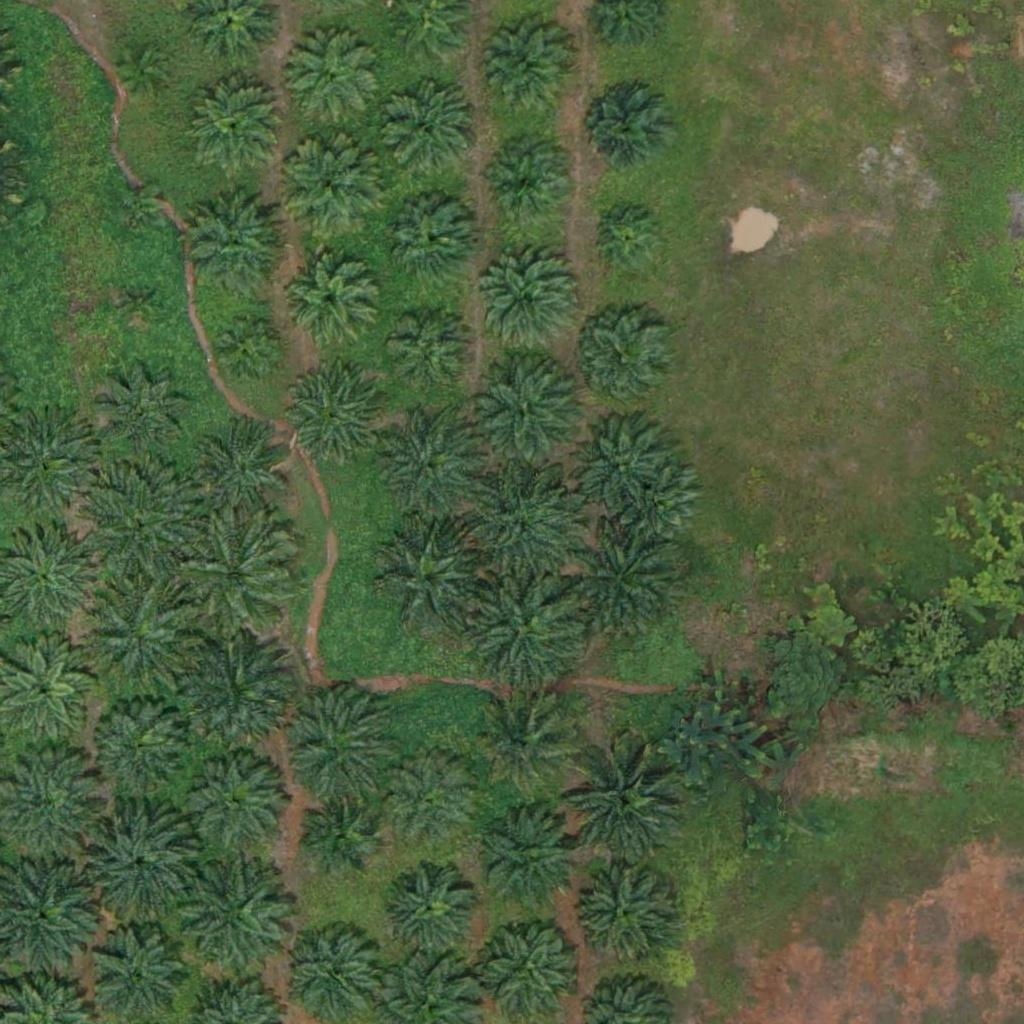Kelapa_Sawit: (176, 517, 289, 631), (280, 691, 393, 805), (472, 360, 585, 473), (465, 471, 578, 584), (567, 533, 680, 646), (84, 469, 196, 583), (81, 577, 193, 691), (181, 630, 293, 744), (178, 745, 290, 859), (570, 748, 682, 861), (86, 357, 198, 470), (82, 798, 194, 911), (180, 863, 292, 976), (374, 522, 486, 635), (470, 575, 582, 688), (475, 806, 587, 919), (277, 138, 377, 239), (480, 696, 580, 797), (479, 245, 579, 346), (378, 83, 478, 184), (380, 419, 480, 520), (278, 26, 378, 127), (280, 246, 380, 347), (282, 364, 382, 465), (184, 71, 284, 172), (189, 195, 289, 296), (188, 423, 288, 524), (574, 862, 674, 963), (89, 693, 189, 793), (380, 749, 480, 849), (377, 861, 477, 961), (384, 309, 472, 398), (390, 194, 478, 282), (583, 315, 670, 403), (490, 25, 577, 113), (485, 140, 572, 228), (576, 422, 663, 510), (611, 462, 698, 550), (592, 94, 667, 170), (301, 795, 376, 871), (599, 208, 662, 271), (216, 318, 279, 381), (120, 47, 170, 98), (122, 192, 159, 230), (118, 283, 155, 321)
